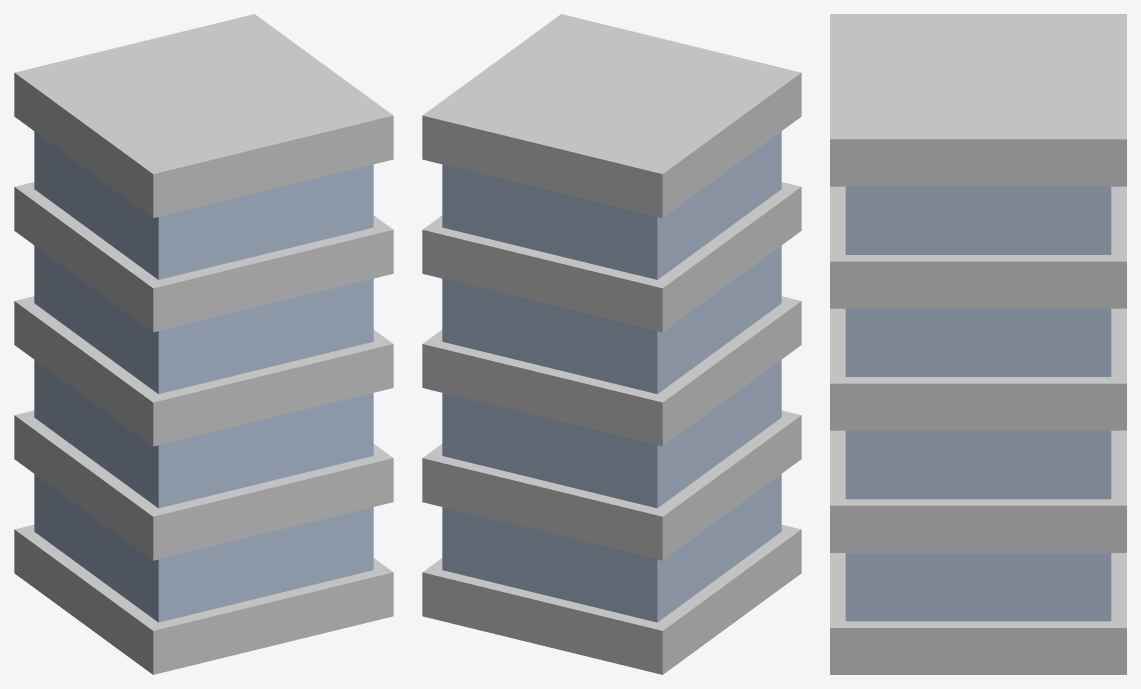
File: Hochhaus_Cube_klein.fbx
The picture shows the model from 3 angles, left to right: view 1: azimuth 30°, elevation 25°; view 2: azimuth 150°, elevation 25°; view 3: azimuth 270°, elevation 25°; orthographic projection. The views are drawn at different scales.
Visible parts, largest first — view 1: Hochhaus_Cube_klein; view 2: Hochhaus_Cube_klein; view 3: Hochhaus_Cube_klein.
Part boxes in pixels (<box>): Hochhaus_Cube_klein: <box>14,14,393,674</box>; Hochhaus_Cube_klein: <box>422,14,801,674</box>; Hochhaus_Cube_klein: <box>830,14,1126,674</box>.
Size of the model in its own units: 989 by 1970 by 989.
